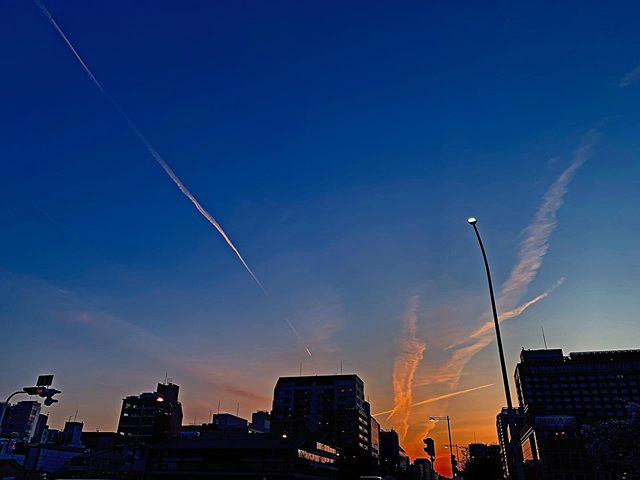building: (512, 353, 640, 463), (278, 373, 381, 475), (116, 384, 181, 475)
sky: (1, 1, 640, 353)
